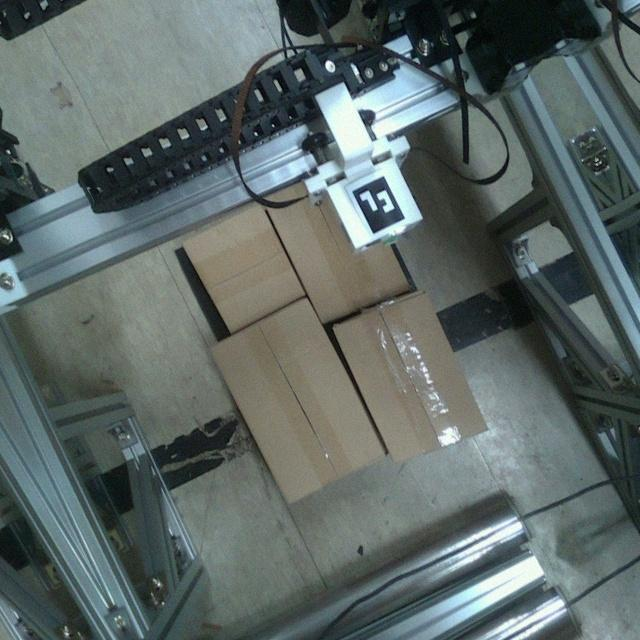box: (201, 292, 389, 512), (327, 281, 497, 472), (176, 198, 306, 336)
